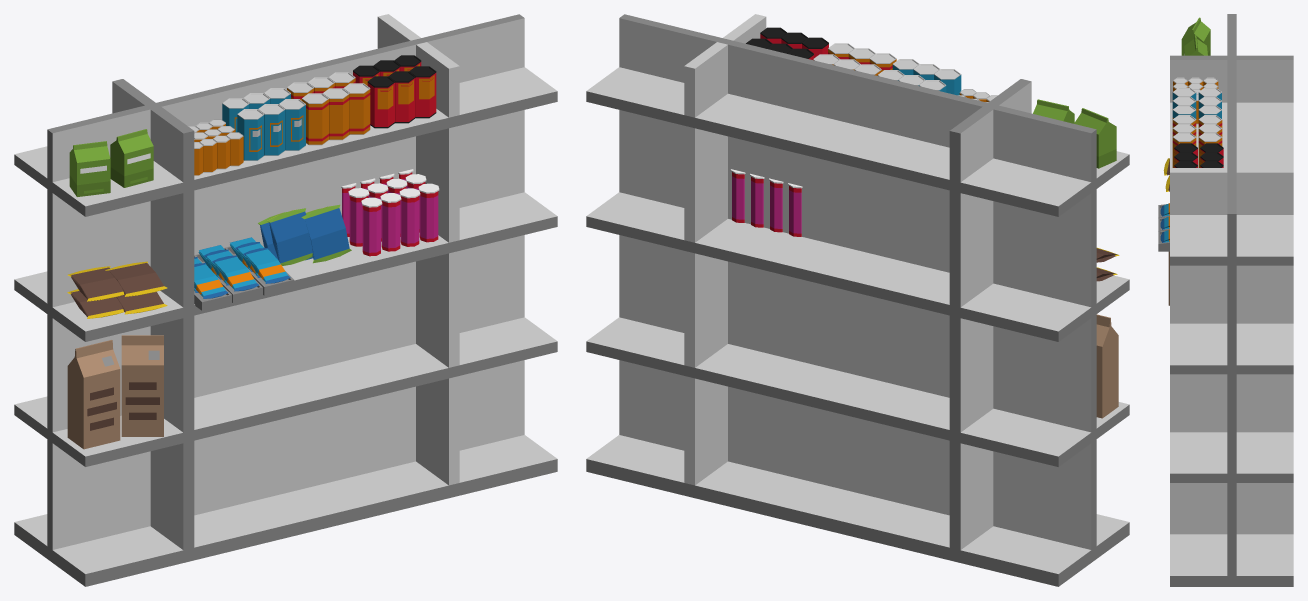
Rendered from SM_shelf_04.fbx.
3 views of the same model, side by side, from view 1: azimuth 30°, elevation 25°; view 2: azimuth 150°, elevation 25°; view 3: azimuth 270°, elevation 25° (orthographic). The views are drawn at different scales.
Parts seen in each view (by area): view 1: SM_shelf_04.001; view 2: SM_shelf_04.001; view 3: SM_shelf_04.001.
Boxes of the visible parts, x1=… form: SM_shelf_04.001: x1=14, y1=14, x2=557, y2=586; SM_shelf_04.001: x1=586, y1=14, x2=1129, y2=586; SM_shelf_04.001: x1=1158, y1=14, x2=1293, y2=586.
Size of the model in its own units: 244 by 212 by 69.71.
